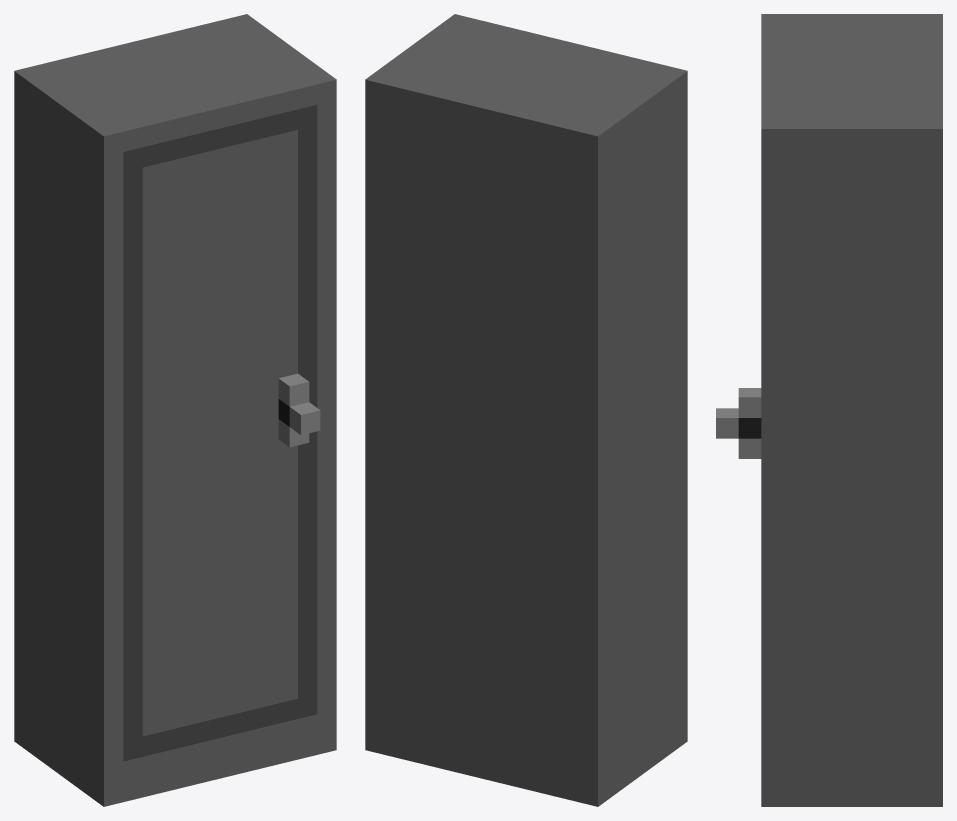
Rendered from Security Locker.obj.
3 renders of one model, left to right at view 1: azimuth 30°, elevation 25°; view 2: azimuth 150°, elevation 25°; view 3: azimuth 270°, elevation 25°, orthographic.
Size of the model in its own units: 12 by 33 by 10.
Materials: 1 (1 with a texture image).
